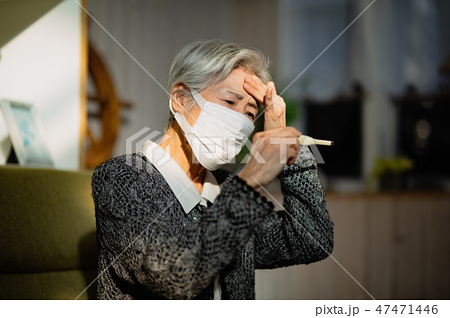mask: (193, 104, 263, 172)
